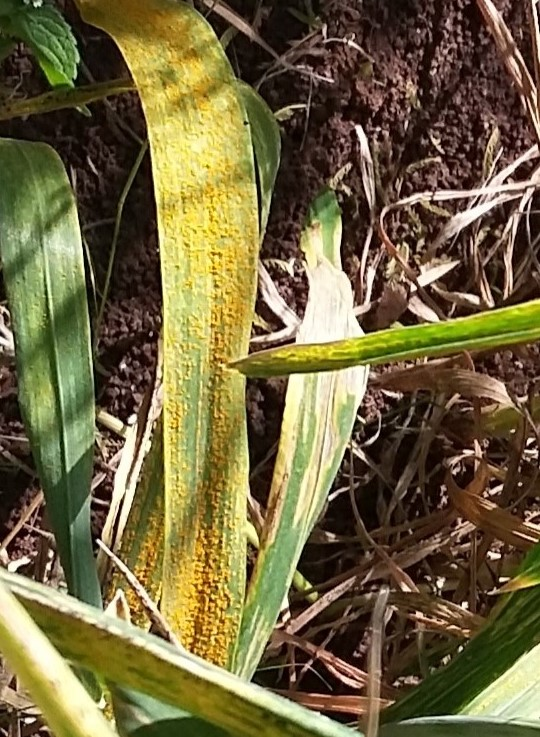Leaf Rust: (153, 80, 258, 653)
